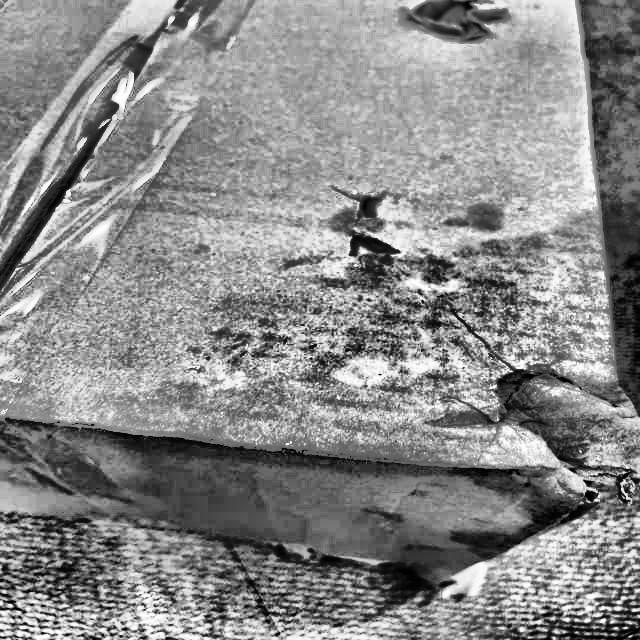box: (0, 0, 639, 604)
hole: (398, 0, 515, 43)
wet: (177, 215, 639, 526)
